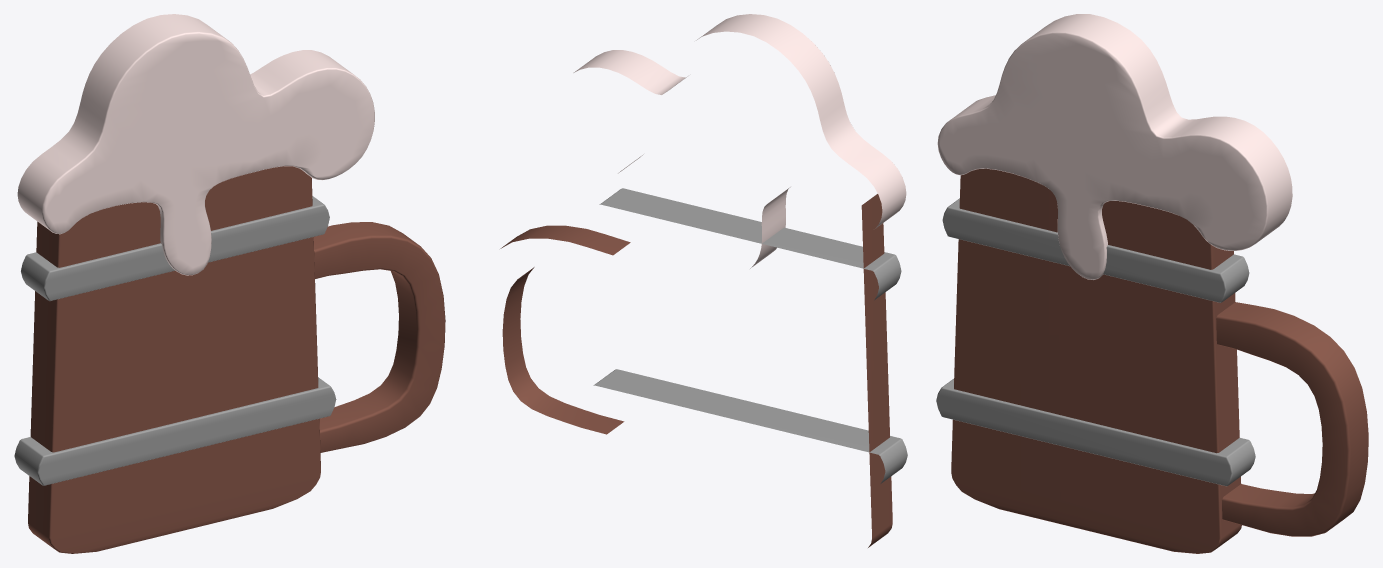
File: Store_16_Beer_Sign_1.glb
3 views of the same model, side by side, from view 1: azimuth 30°, elevation 25°; view 2: azimuth 150°, elevation 25°; view 3: azimuth 330°, elevation 25° (orthographic).
Visible parts, largest first — view 1: Store_16_Beer_Sign_1; view 2: Store_16_Beer_Sign_1; view 3: Store_16_Beer_Sign_1.
Part boxes in pixels (left/top/right/bottom): Store_16_Beer_Sign_1: left=14, top=14, right=445, bottom=553; Store_16_Beer_Sign_1: left=500, top=14, right=907, bottom=547; Store_16_Beer_Sign_1: left=936, top=14, right=1368, bottom=553.
Bounding box in the file's own units: 0.9032 × 1.05 × 0.0952.
Materials: 1 (1 with a texture image).
